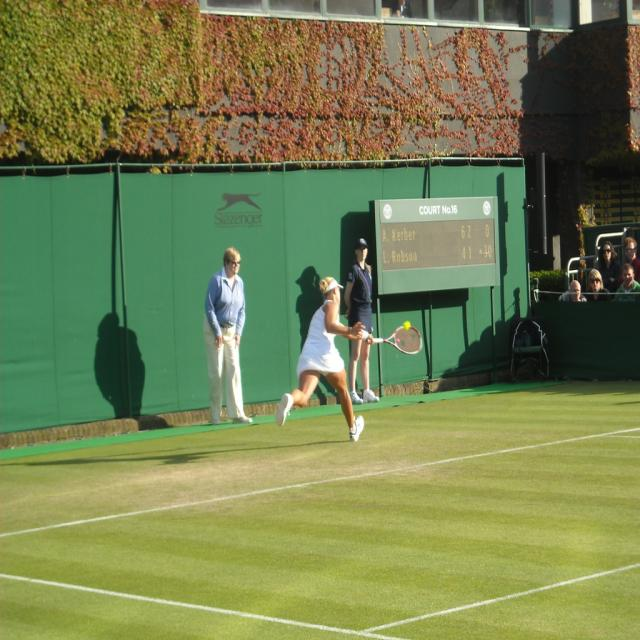Tennis ball: (404, 320, 412, 331)
